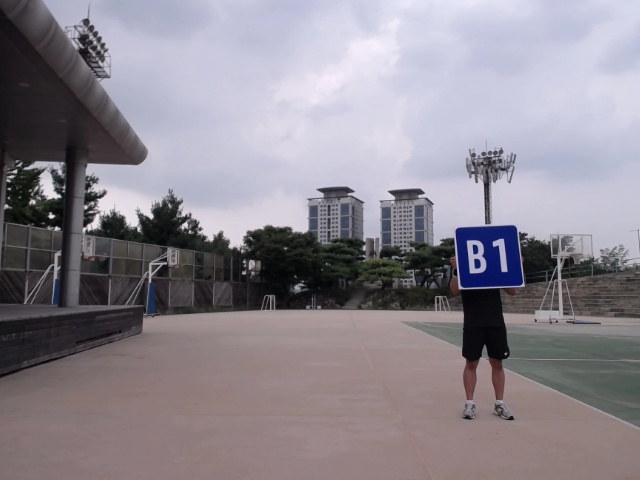delivery_b1: (454, 225, 525, 289)
